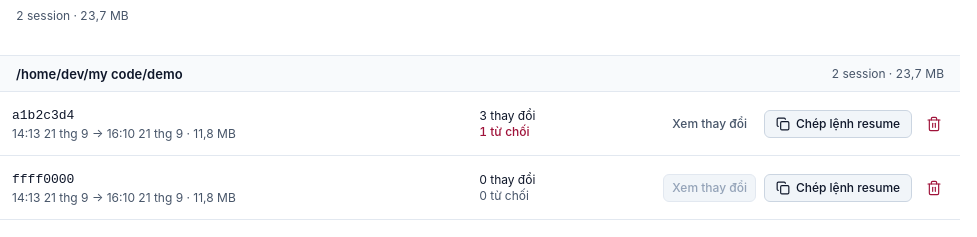
Test case: <SessionsPage /> › UC-004 / AC-4: a registered project uses the cd form with its own path
Expected: the text "a1b2c3d4" is shown, [12,108,74,122]
Click the button "Chép lệnh resume" in the row of "a1b2c3d4" at (838, 124), box [764,110,912,138]
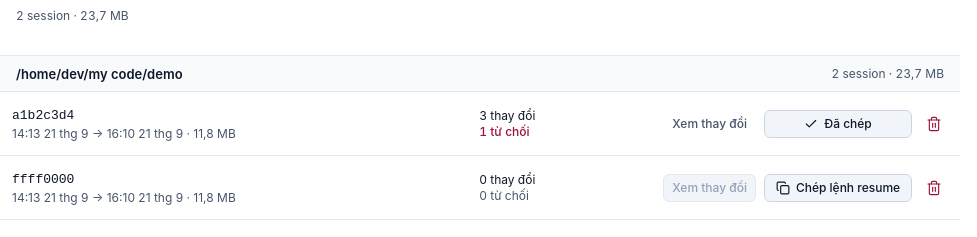
Now the button "Đã chép" is shown, box [764,110,912,138]
